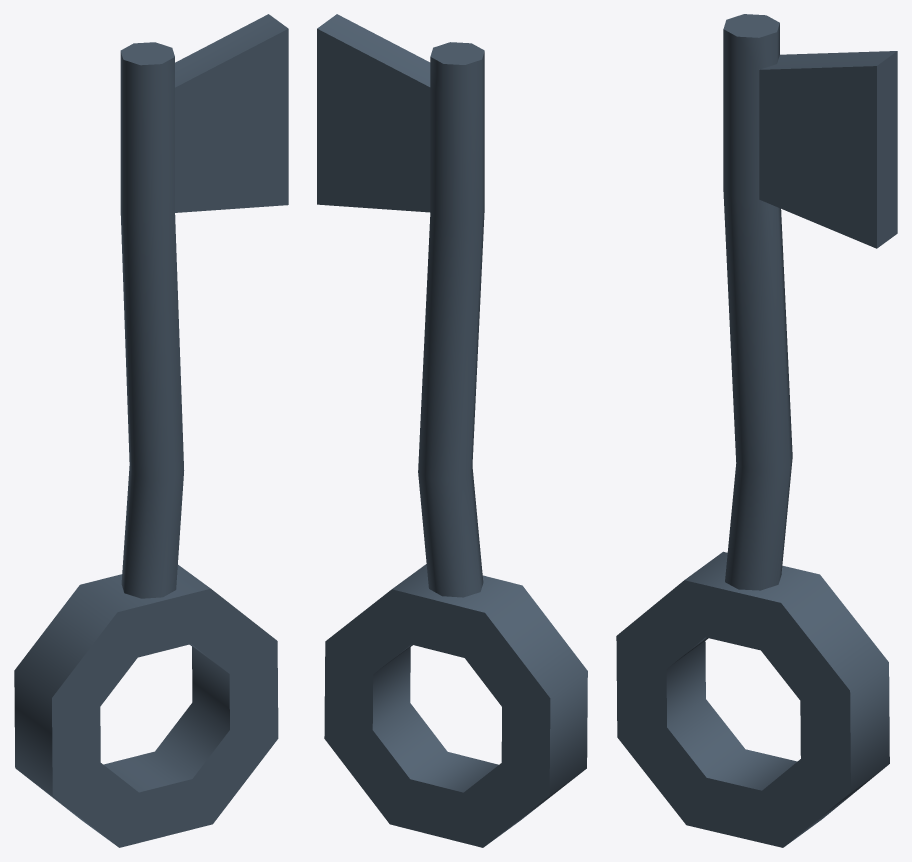
File: key 1.fbx
The picture shows the model from 3 angles, left to right: view 1: azimuth 30°, elevation 25°; view 2: azimuth 150°, elevation 25°; view 3: azimuth 330°, elevation 25°; orthographic projection. The views are drawn at different scales.
Parts seen in each view (by area): view 1: Circle.018; view 2: Circle.018; view 3: Circle.018.
Part boxes in pixels (x1,y1,x2,y2): Circle.018: (14,14,288,847); Circle.018: (317,14,587,847); Circle.018: (616,14,897,847).
Size of the model in its own units: 8.79 by 26.52 by 2.34.
